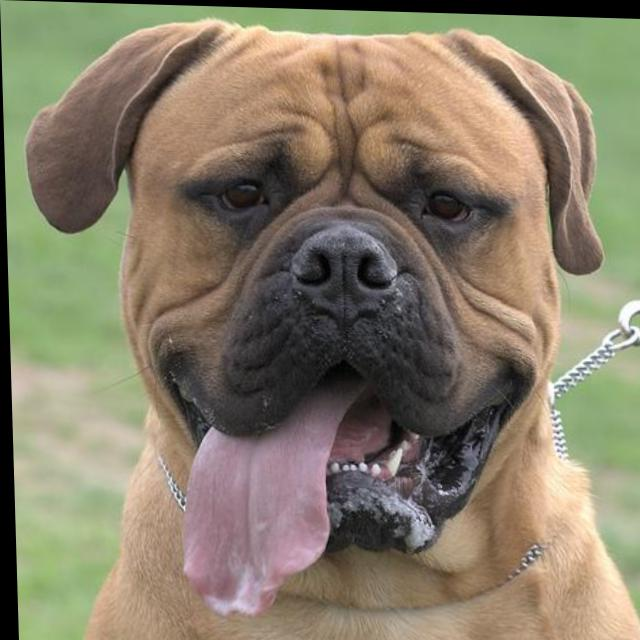bullmastiff: (22, 10, 640, 640)
